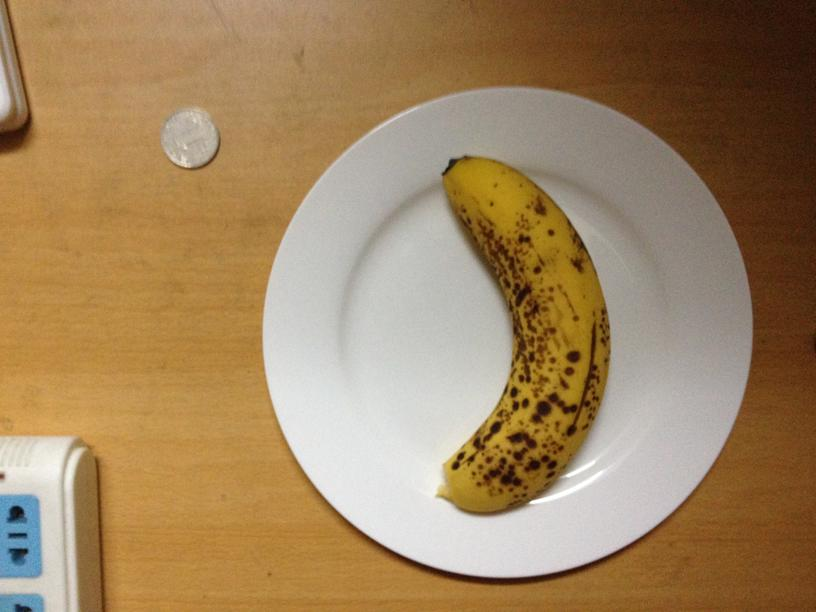banana: (431, 156, 612, 514)
coin: (160, 109, 220, 170)
